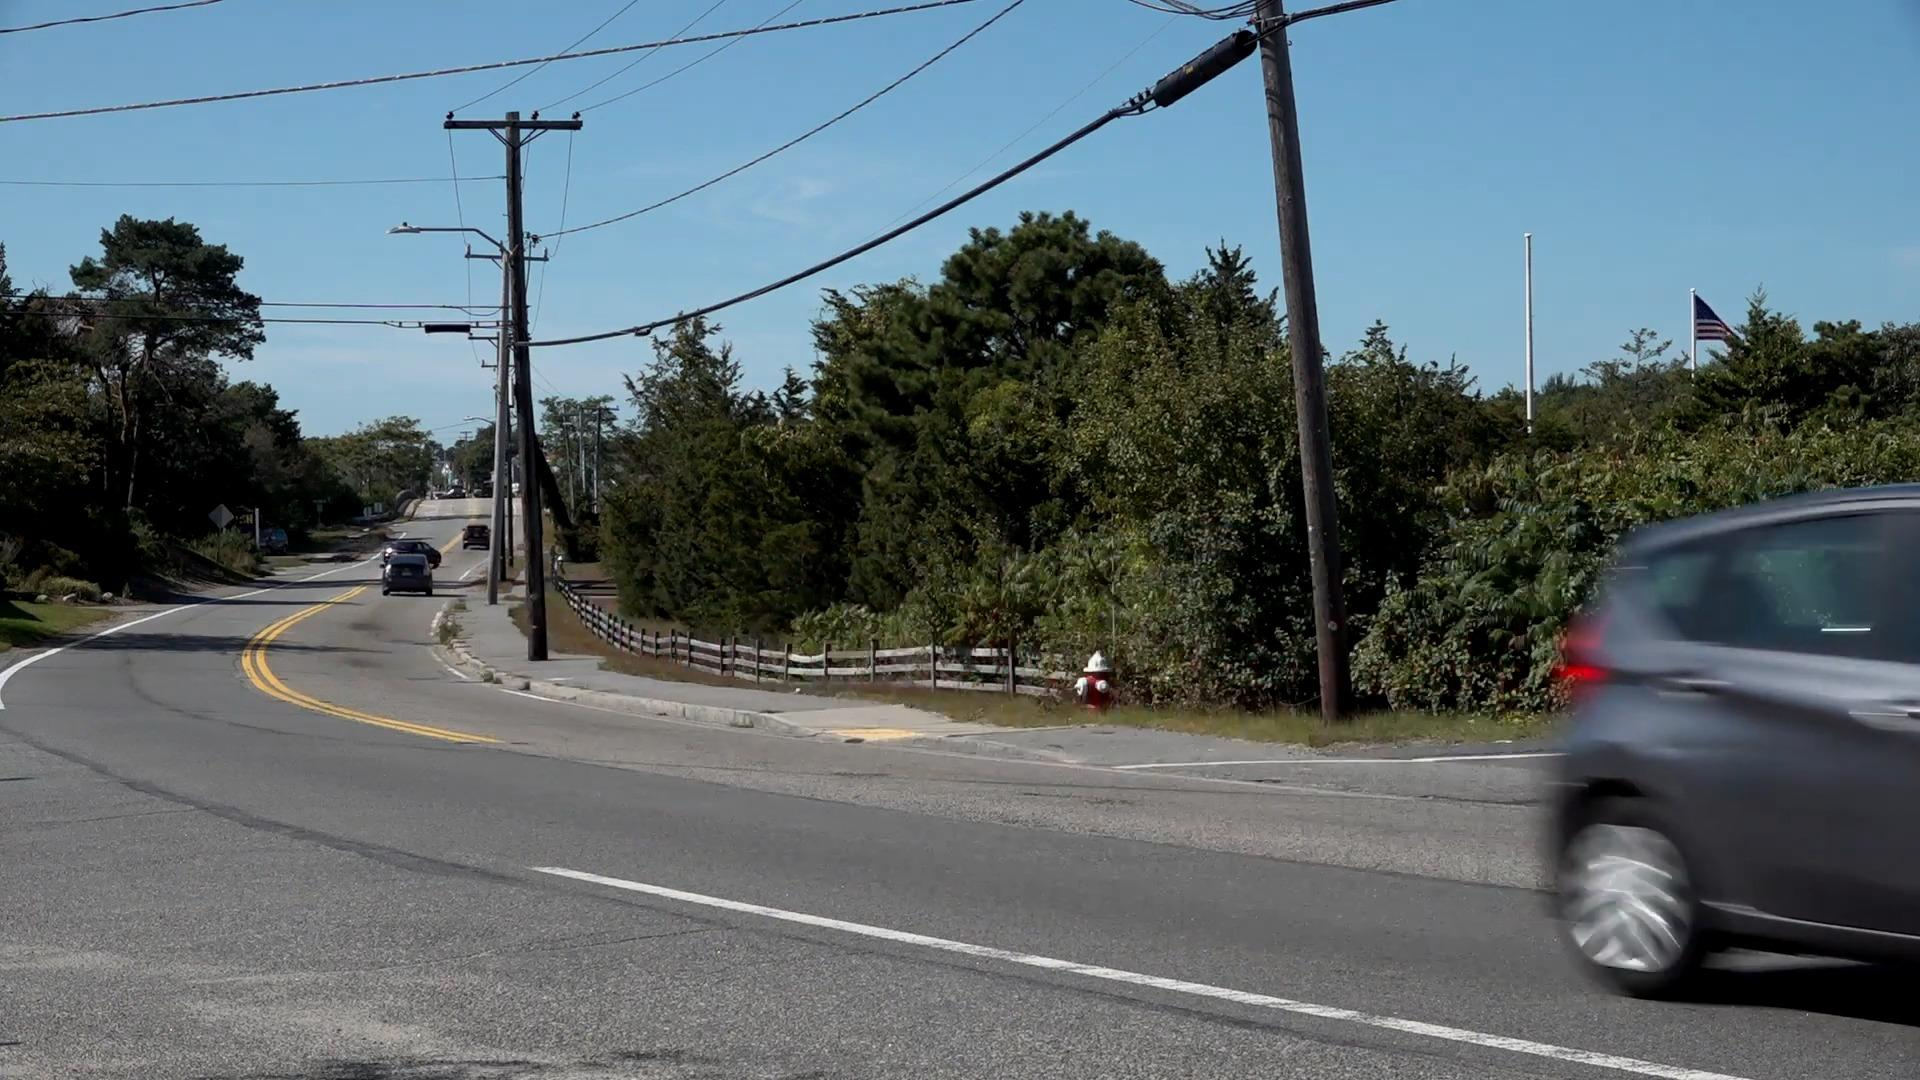suv: (1549, 476, 1920, 992)
